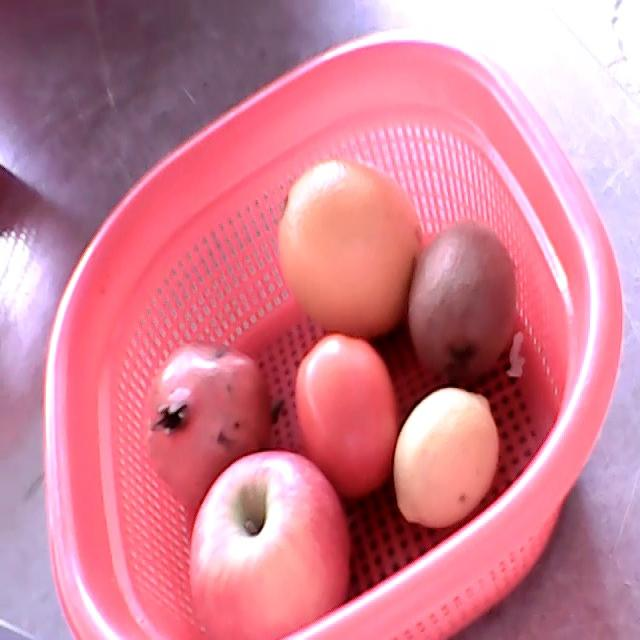apple: (189, 449, 350, 639)
kiwi: (409, 221, 515, 382)
lemon: (392, 387, 499, 527)
orange: (275, 158, 421, 342)
pomegranate: (141, 336, 276, 507)
tomato: (294, 333, 399, 497)
